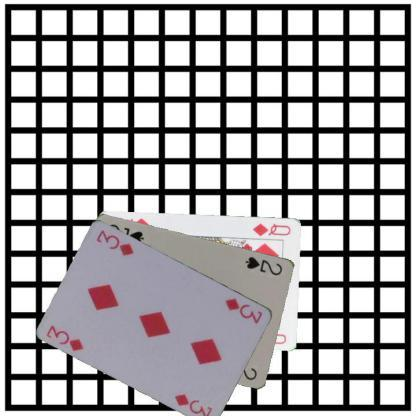2s: (244, 254, 284, 276)
3d: (223, 296, 264, 326), (44, 322, 85, 352)
Qd: (250, 221, 292, 238)
